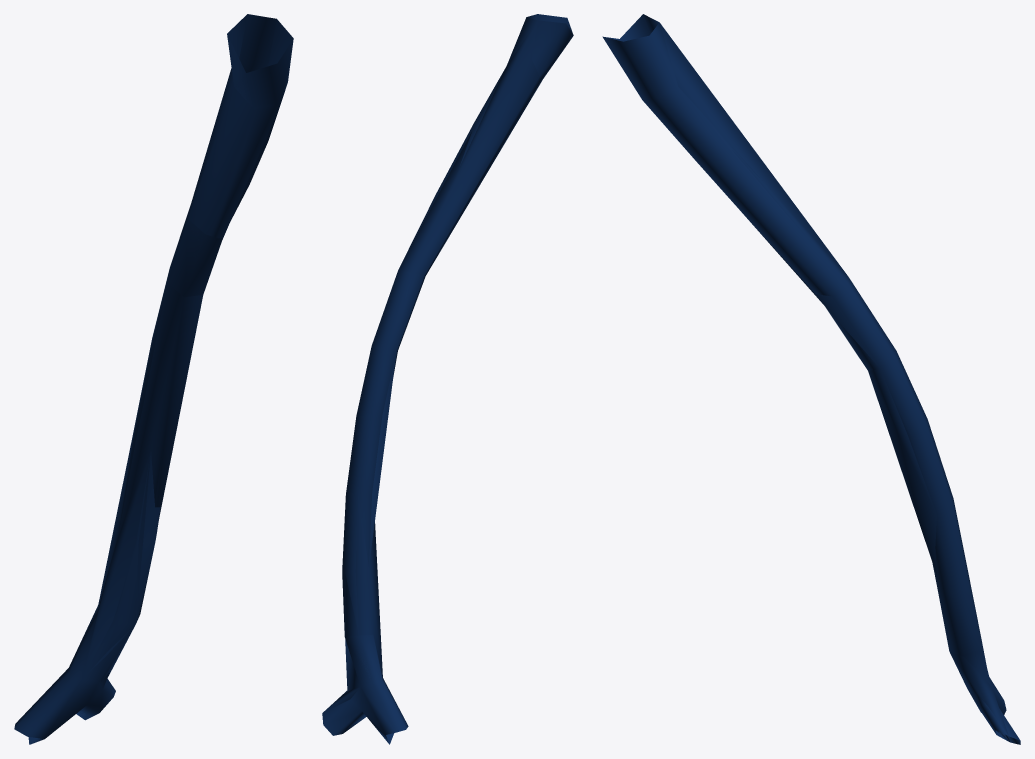
The model's file is R vena ramus caudalis.fbx.
3 views of the same model, side by side, from view 1: azimuth 30°, elevation 25°; view 2: azimuth 150°, elevation 25°; view 3: azimuth 270°, elevation 25° (orthographic). The views are drawn at different scales.
Visible parts, largest first — view 1: R vena ramus caudalis low, R vena ramus caudalis; view 2: R vena ramus caudalis, R vena ramus caudalis low; view 3: R vena ramus caudalis, R vena ramus caudalis low.
Part boxes in pixels (x1=…): R vena ramus caudalis low: x1=79, y1=14, x2=293, y2=717; R vena ramus caudalis: x1=14, y1=14, x2=293, y2=744; R vena ramus caudalis: x1=322, y1=14, x2=573, y2=744; R vena ramus caudalis low: x1=323, y1=14, x2=568, y2=712; R vena ramus caudalis: x1=602, y1=14, x2=1020, y2=744; R vena ramus caudalis low: x1=643, y1=14, x2=1009, y2=741.
Bounding box in the file's own units: 1.33 × 8.61 × 4.65.
